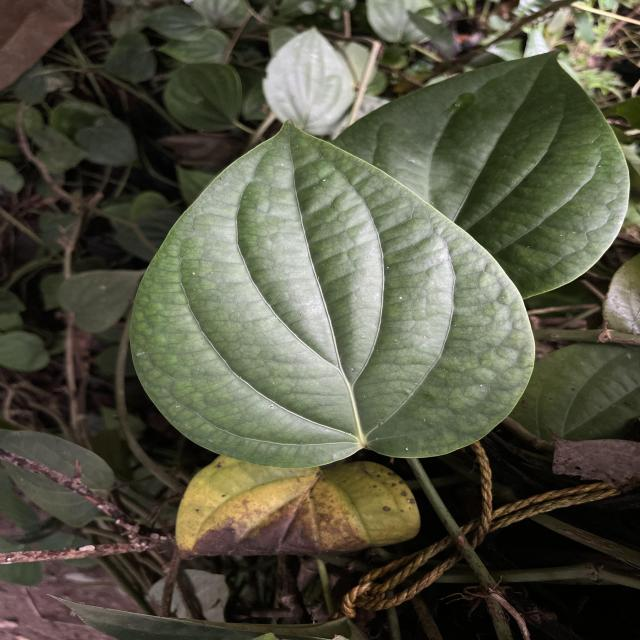Piper nigrum: (127, 117, 539, 470)
